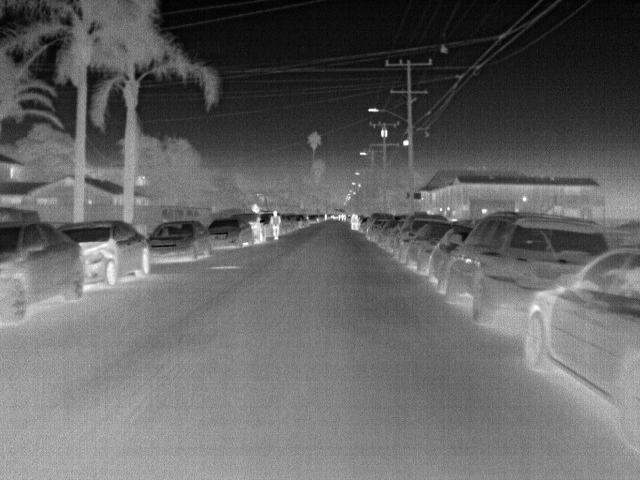car: (520, 242, 638, 454), (446, 210, 610, 328), (0, 221, 86, 326), (57, 220, 151, 291), (144, 220, 213, 264), (427, 226, 475, 287), (405, 222, 459, 275), (395, 213, 446, 262), (206, 220, 255, 250), (229, 213, 263, 240), (362, 211, 394, 238), (378, 221, 398, 251), (367, 218, 388, 243), (293, 213, 306, 228), (358, 218, 370, 234), (304, 211, 319, 223)
person: (268, 210, 284, 240)
